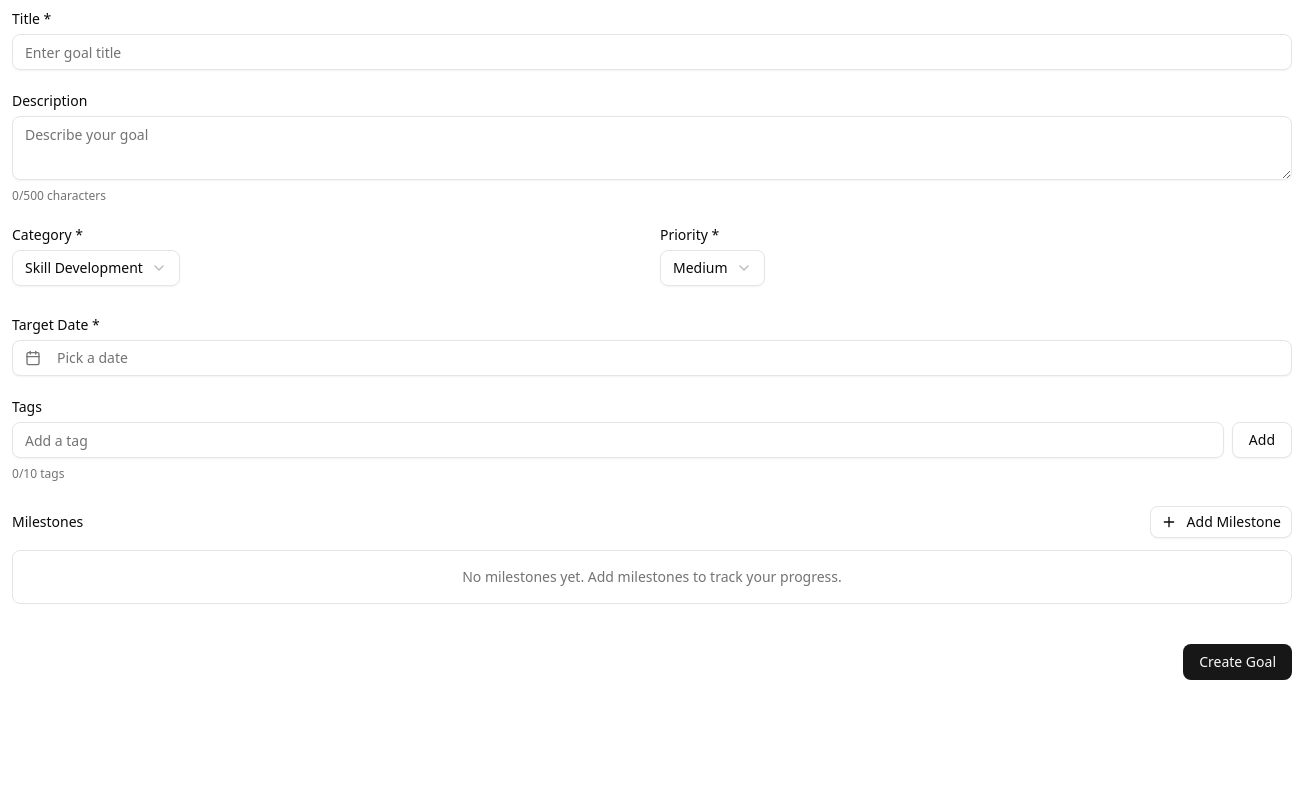
Test: GoalForm Component › Create Mode › shows validation error for empty title
Click the button "Create Goal" at coordinates (1238, 662), box [1183,644,1292,680]
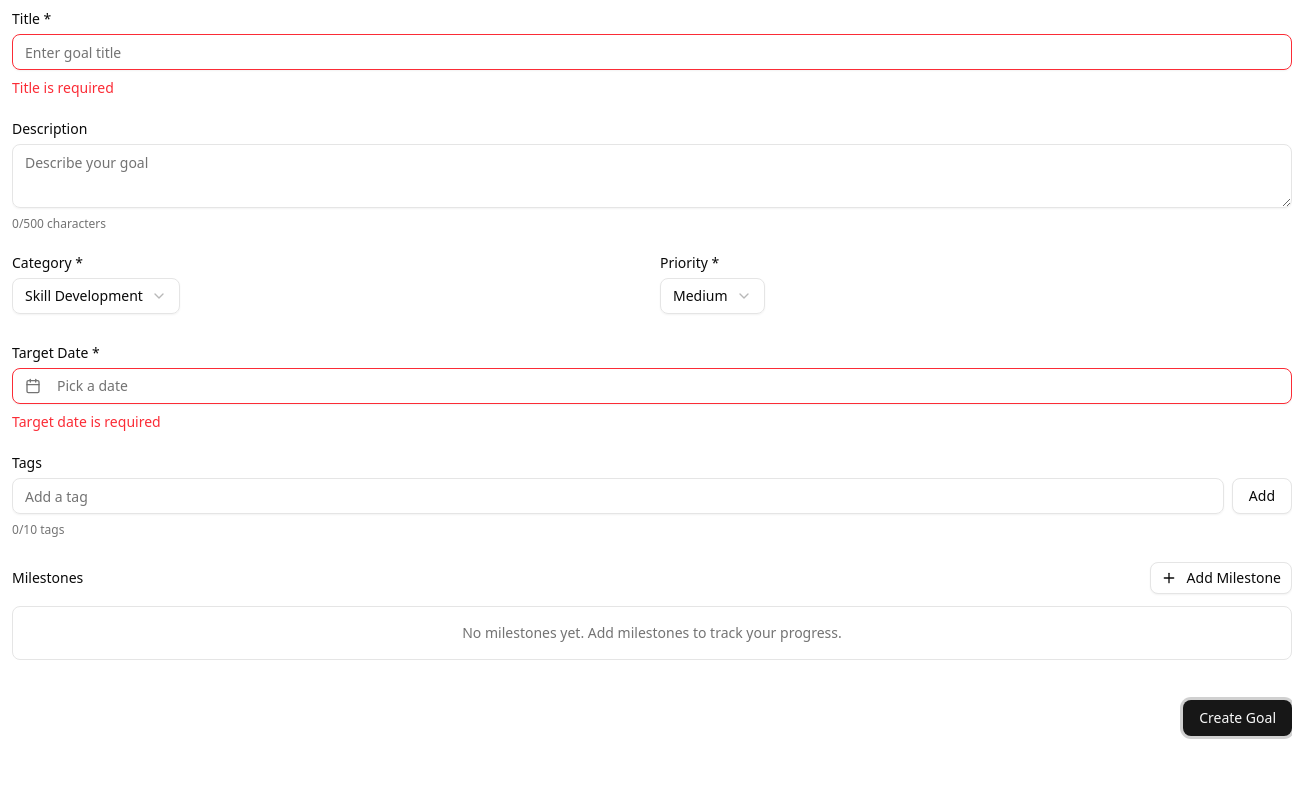
Check: the text "Title is required" is shown, box [12,78,114,97]
